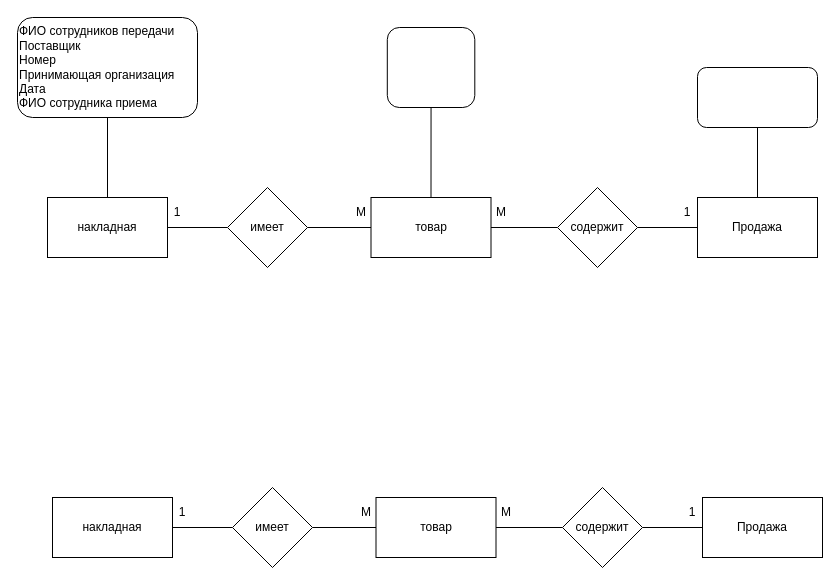
Image size: 840x585. Some labels were removed from this diagram. The shapes that lost their labels are listed below. From the top down, each one's centre as x and y in pixels, then its label:
point (430, 67): Цена Название Количество Штрих-код Артикул
point (757, 97): Идентификатор чека Дата
